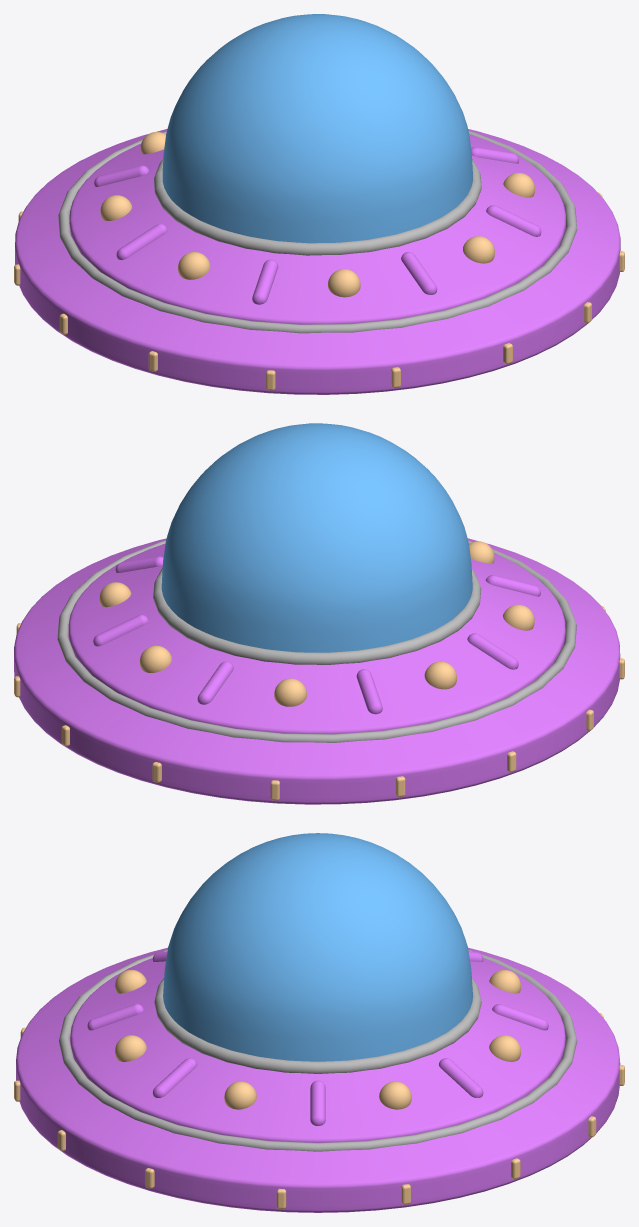
File: UFO.fbx
The picture shows the model from 3 angles, top to bottom: view 1: azimuth 30°, elevation 25°; view 2: azimuth 150°, elevation 25°; view 3: azimuth 270°, elevation 25°; orthographic projection.
Visible parts, largest first — view 1: Roundcube, Cylinder, Cylinder.001, Cylinder.002, Cylinder.003, Roundcube.008, Cube.008, Cube.006, Cube.007, Cube, Cube.001, Cube.005; view 2: Roundcube, Cylinder, Cylinder.001, Cylinder.002, Cylinder.003, Roundcube.008, Cube.008, Cube.006, Cube.004, Cube.005, Cube.003, Cube.007; view 3: Roundcube, Cylinder, Cylinder.001, Cylinder.002, Cylinder.003, Roundcube.008, Cube.008, Cube.003, Cube.001, Cube.002, Cube, Cube.004.
Boxes of the visible parts, bbox=[...] form: Roundcube: bbox=[162, 14, 472, 243]; Cylinder: bbox=[15, 129, 620, 394]; Cylinder.001: bbox=[69, 134, 565, 324]; Cylinder.002: bbox=[58, 131, 577, 333]; Cylinder.003: bbox=[154, 158, 481, 255]; Roundcube.008: bbox=[100, 132, 535, 297]; Cube.008: bbox=[14, 192, 624, 390]; Cube.006: bbox=[116, 223, 167, 259]; Cube.007: bbox=[252, 259, 278, 304]; Cube: bbox=[401, 252, 437, 294]; Cube.001: bbox=[486, 205, 541, 236]; Cube.005: bbox=[94, 165, 149, 186]; Roundcube: bbox=[161, 423, 472, 652]; Cylinder: bbox=[14, 538, 620, 804]; Cylinder.001: bbox=[68, 543, 565, 734]; Cylinder.002: bbox=[57, 540, 576, 742]; Cylinder.003: bbox=[153, 568, 481, 664]; Roundcube.008: bbox=[99, 541, 534, 706]; Cube.008: bbox=[14, 606, 624, 800]; Cube.006: bbox=[467, 633, 518, 669]; Cube.004: bbox=[197, 661, 233, 704]; Cube.005: bbox=[356, 669, 382, 714]; Cube.003: bbox=[93, 614, 148, 646]; Cube.007: bbox=[485, 575, 540, 596]; Roundcube: bbox=[163, 833, 472, 1061]; Cylinder: bbox=[16, 947, 620, 1212]; Cylinder.001: bbox=[70, 958, 565, 1142]; Cylinder.002: bbox=[58, 949, 577, 1151]; Cylinder.003: bbox=[154, 978, 481, 1073]; Roundcube.008: bbox=[115, 970, 520, 1109]; Cube.008: bbox=[14, 1013, 624, 1209]; Cube.003: bbox=[439, 1058, 483, 1097]; Cube.001: bbox=[152, 1058, 197, 1097]; Cube.002: bbox=[310, 1080, 325, 1125]; Cube: bbox=[87, 1004, 143, 1030]; Cube.004: bbox=[492, 1004, 548, 1030].
Size of the model in its own units: 201 by 105 by 201.
